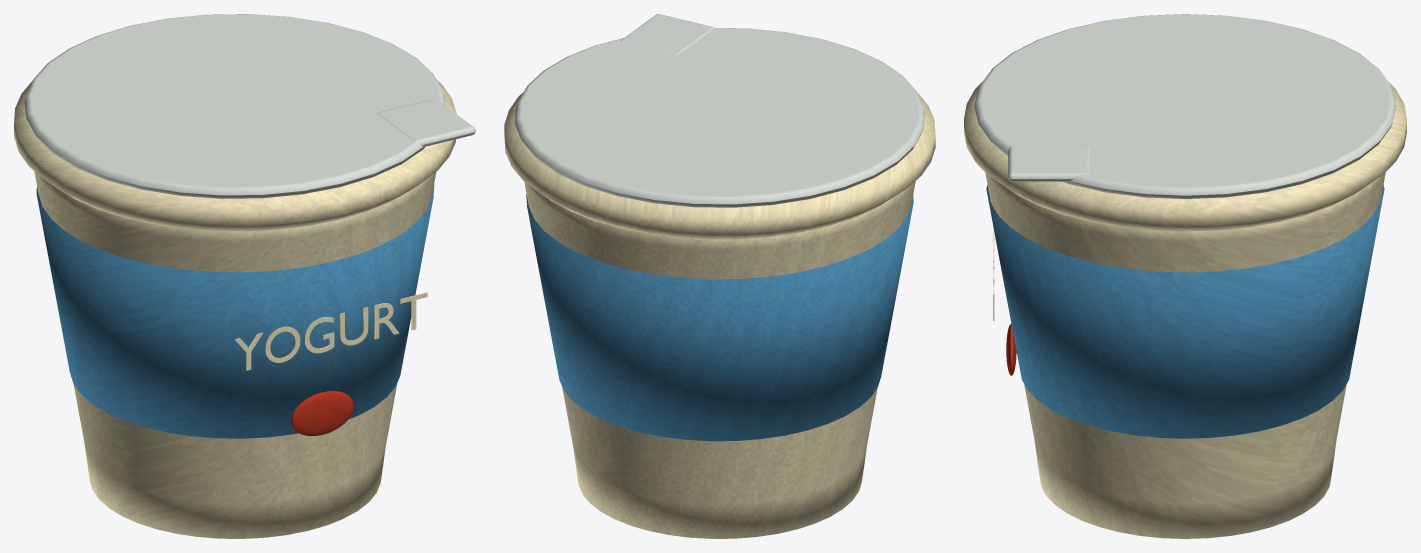
Rendered from yogurt.fbx.
3 renders of one model, left to right at view 1: azimuth 30°, elevation 25°; view 2: azimuth 150°, elevation 25°; view 3: azimuth 270°, elevation 25°, orthographic. The views are drawn at different scales.
Parts seen in each view (by area): view 1: Foil top, Blue dairy sleeve, Tapered yogurt pot, Rolled rim, Foil pull tab, YOGURT, Berry illustration; view 2: Foil top, Blue dairy sleeve, Tapered yogurt pot, Rolled rim, Foil pull tab; view 3: Foil top, Blue dairy sleeve, Tapered yogurt pot, Rolled rim, Foil pull tab.
Boxes of the visible parts, <box> form: Foil top: <box>24,14,445,198</box>; Blue dairy sleeve: <box>36,184,434,438</box>; Tapered yogurt pot: <box>34,171,436,538</box>; Rolled rim: <box>14,80,456,231</box>; Foil pull tab: <box>377,99,475,146</box>; YOGURT: <box>234,292,427,370</box>; Berry illustration: <box>291,391,353,435</box>; Foil top: <box>514,28,925,207</box>; Blue dairy sleeve: <box>526,193,913,441</box>; Tapered yogurt pot: <box>524,181,915,538</box>; Rolled rim: <box>504,92,935,239</box>; Foil pull tab: <box>620,14,714,55</box>; Foil top: <box>974,14,1396,198</box>; Blue dairy sleeve: <box>986,185,1384,438</box>; Tapered yogurt pot: <box>985,172,1385,538</box>; Rolled rim: <box>964,81,1406,231</box>; Foil pull tab: <box>1008,145,1089,181</box>.
Bounding box in the file's own units: 85 × 79.9 × 85.
Materials: 4 (3 with a texture image).
